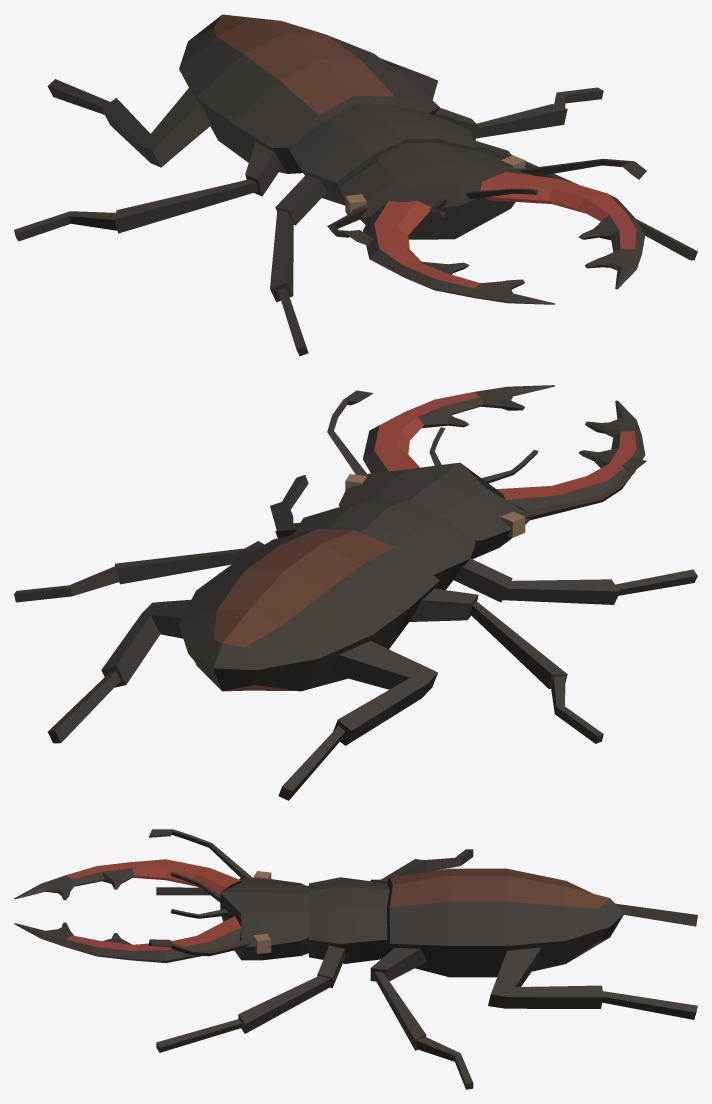
File: 4yufxgZ1QQ2.glb
3 renders of one model, top to bottom at view 1: azimuth 30°, elevation 25°; view 2: azimuth 150°, elevation 25°; view 3: azimuth 270°, elevation 25°, orthographic. The views are drawn at different scales.
Visible parts, largest first — view 1: Geo_Beetle; view 2: Geo_Beetle; view 3: Geo_Beetle.
Part boxes in pixels (x1=…): Geo_Beetle: x1=14, y1=14, x2=697, y2=356; Geo_Beetle: x1=14, y1=385, x2=697, y2=800; Geo_Beetle: x1=14, y1=829, x2=697, y2=1089.
Bounding box in the file's own units: 87.42 × 17.04 × 108.
Materials: 1 (1 with a texture image).
